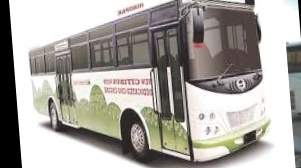bus: (24, 0, 275, 168)
